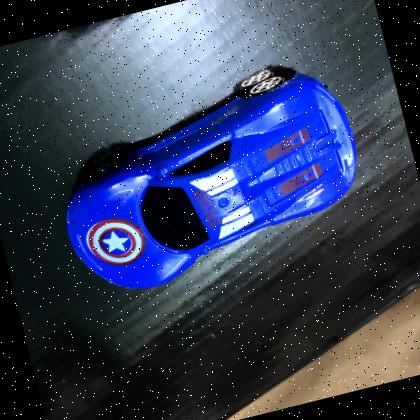Car: (64, 64, 357, 288)
